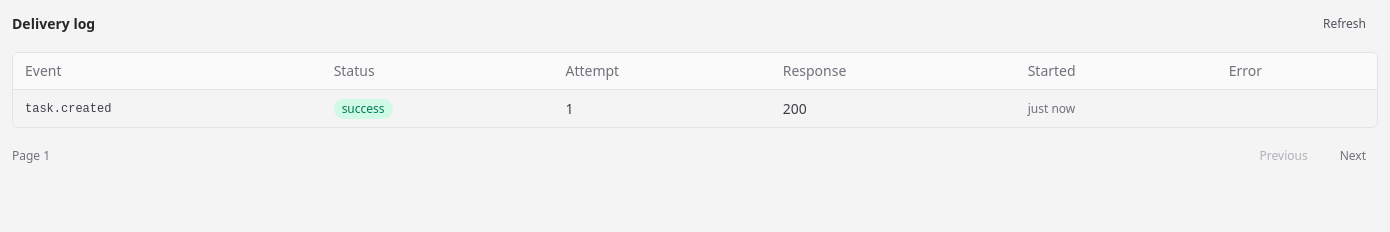
Scenario: WebhookDeliveries pagination › surfaces a fatal error when both the paged and fallback fetches fail
This screenshot has width=1390, height=232.
Expected: the number of rows with test id "webhook-delivery-row" is 1, [13,90,1377,127]
Click the button with test id "webhook-deliveries-next": x=1353, y=156 [1328,144,1378,168]
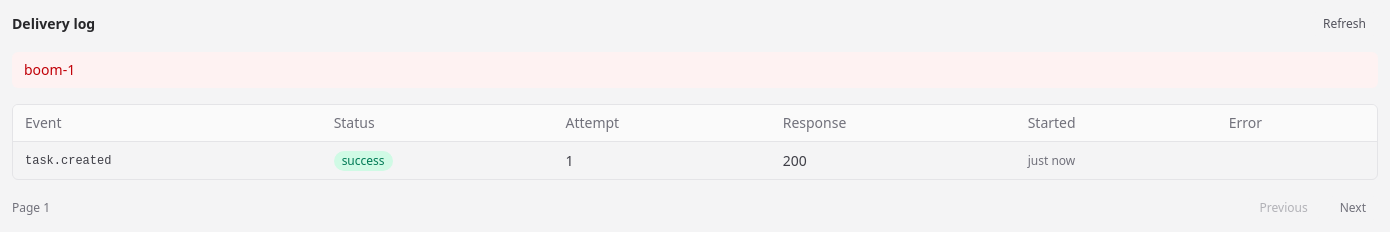
Expected: the message "boom-1" is shown, [12,52,1378,88]
Expected: the message with test id "webhook-deliveries-error" reads "boom-1", [24,60,75,79]
